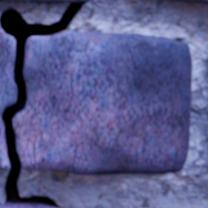brick: (0, 203, 59, 207), (172, 0, 207, 2), (31, 0, 88, 1)
broken_brick: (13, 30, 190, 174), (0, 30, 16, 168)
crack: (0, 1, 83, 205)
